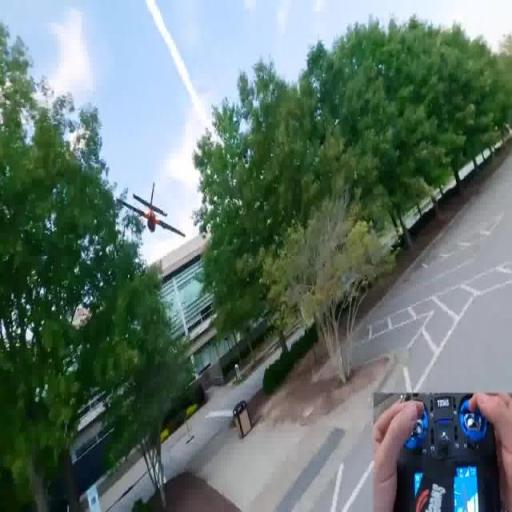uav: (119, 178, 188, 250)
